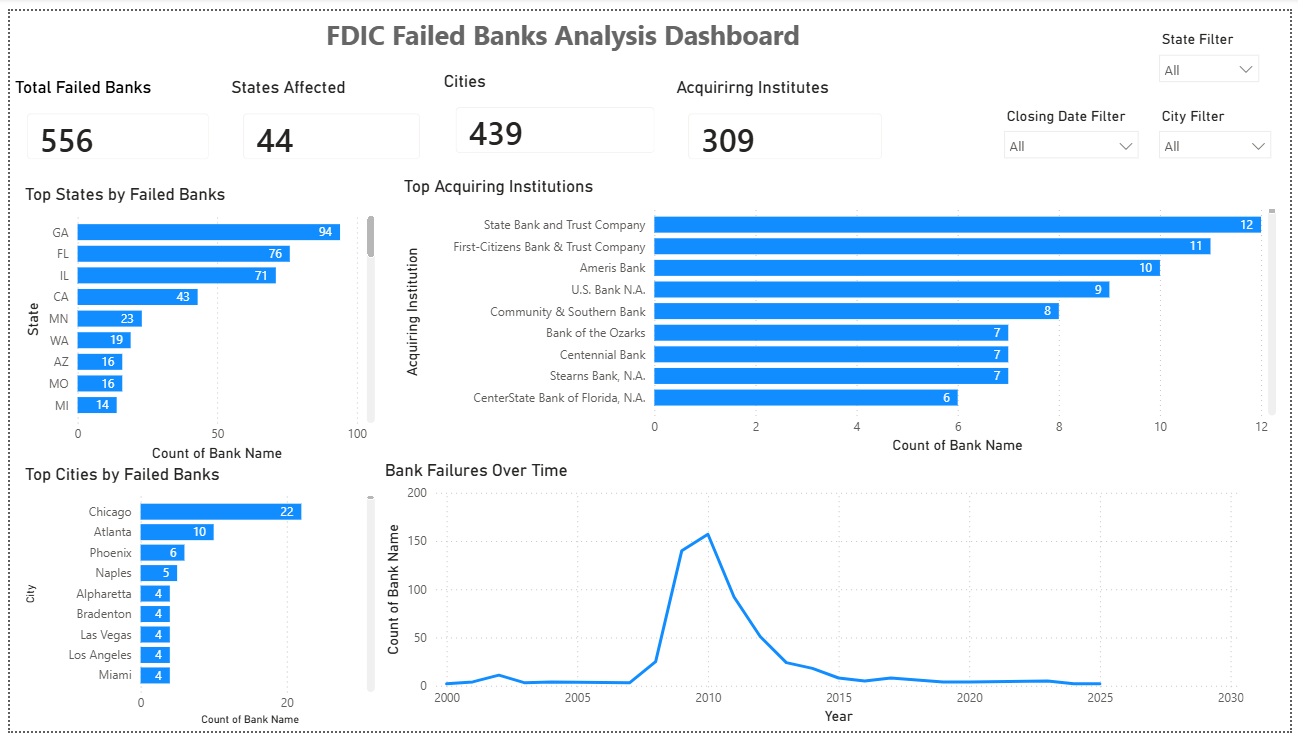

This screenshot's page, from the dashboard's own definition file:
{"tool":"powerbi","page":{"name":"Page 1","canvas":[1280,720],"ordinal":0},"visuals":[{"type":"clusteredBarChart","title":"Top States by Failed Banks","fields":{"Category":["Failed banks.State"],"Y":["CountNonNull(Failed banks.Bank Name)"]},"box":[10,172.5,360,282.5],"z":0},{"type":"cardVisual","title":"Total Failed Banks","fields":{"Data":["Count(Failed banks.Bank Name)"]},"box":[0,66.7,216.7,100],"z":1000},{"type":"cardVisual","title":"States Affected","fields":{"Data":["Count(Failed banks.State)"]},"box":[216.7,66.7,211.7,100],"z":2000},{"type":"cardVisual","title":"Cities","fields":{"Data":["Count(Failed banks.City)"]},"box":[428.3,60,233.3,100],"z":3000},{"type":"cardVisual","title":"Acquirirng Institutes","fields":{"Data":["Count(Failed banks.Acquiring Institution)"]},"box":[661.7,66.7,228.3,100],"z":4000},{"type":"lineChart","title":"Bank Failures Over Time","fields":{"Category":["Failed banks.Closing Date.Variation.Date Hierarchy.Year"],"Y":["CountNonNull(Failed banks.Bank Name)"]},"box":[370,448.3,901.7,270],"z":5000},{"type":"textbox","box":[21.7,0,1063.3,48.3],"z":6000},{"type":"slicer","title":"Top Acquiring Institutions","fields":{"Values":["Failed banks.State"]},"box":[1138.3,15,120,66.7],"z":7000},{"type":"slicer","fields":{"Values":["Failed banks.Closing Date"]},"box":[983.3,91.7,155,70],"z":7001},{"type":"slicer","fields":{"Values":["Failed banks.City"]},"box":[1138.8,91.2,132.5,72.5],"z":7002},{"type":"clusteredBarChart","title":"Top Acquiring Institutions","fields":{"Category":["Failed banks.Acquiring Institution"],"Y":["CountNonNull(Failed banks.Bank Name)"]},"box":[388.8,165,882.5,282.5],"z":7003},{"type":"clusteredBarChart","title":"Top Cities by Failed Banks","fields":{"Category":["Failed banks.City"],"Y":["CountNonNull(Failed banks.Bank Name)"]},"box":[10,452.5,360,267.5],"z":7004}]}

Visuals, with their boxes in screenshot pixels (x1, y1, x2, y2), scaled from the page's 1280x720 canvas onto the 1298x737 screenshot:
"Top States by Failed Banks" clusteredBarChart: select_region(10, 177, 375, 466)
"Total Failed Banks" cardVisual: select_region(0, 68, 220, 171)
"States Affected" cardVisual: select_region(220, 68, 434, 171)
"Cities" cardVisual: select_region(434, 61, 671, 164)
"Acquirirng Institutes" cardVisual: select_region(671, 68, 903, 171)
"Bank Failures Over Time" lineChart: select_region(375, 459, 1290, 735)
textbox: select_region(22, 0, 1100, 49)
"Top Acquiring Institutions" slicer: select_region(1154, 15, 1276, 84)
slicer - Failed banks.Closing Date: select_region(997, 94, 1154, 166)
slicer - Failed banks.City: select_region(1155, 93, 1289, 168)
"Top Acquiring Institutions" clusteredBarChart: select_region(394, 169, 1289, 458)
"Top Cities by Failed Banks" clusteredBarChart: select_region(10, 463, 375, 736)
